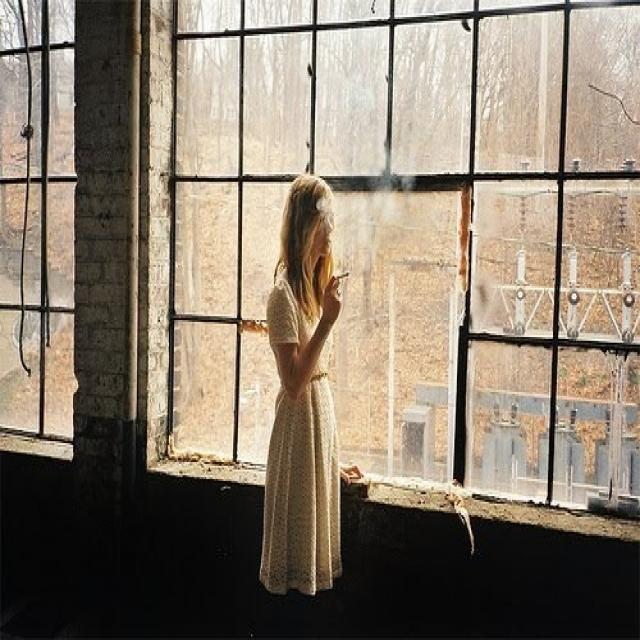smoke: (332, 269, 348, 280)
